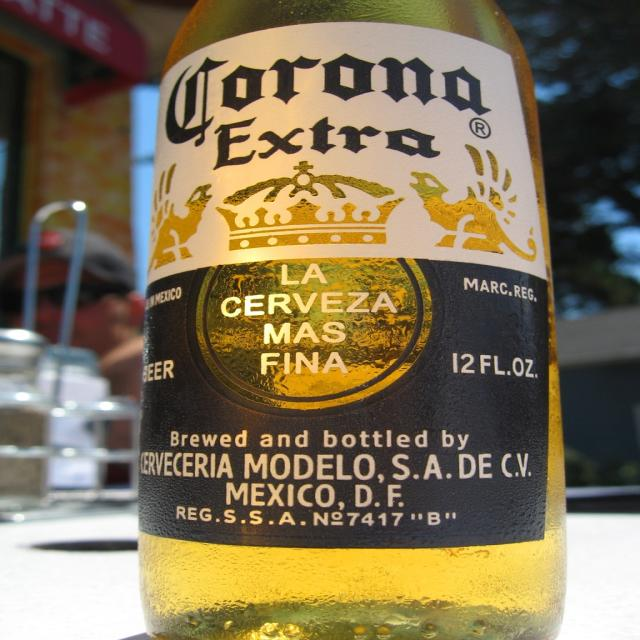corona: (140, 22, 551, 551)
